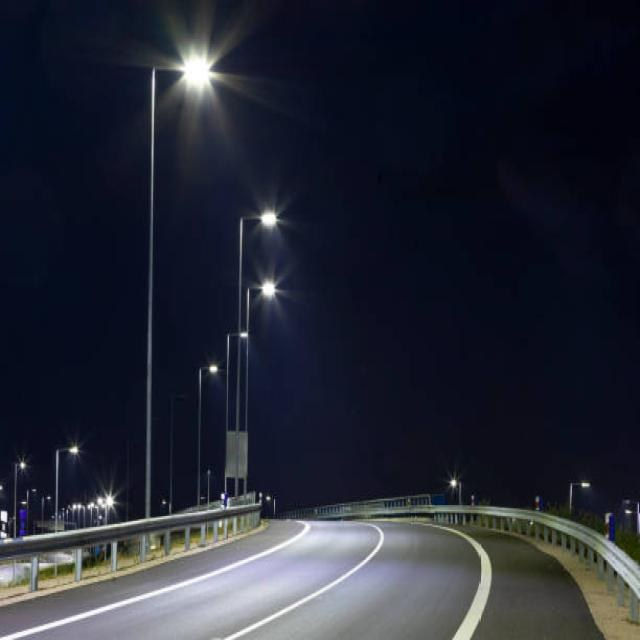acesa: (158, 22, 242, 115), (244, 186, 302, 240), (251, 256, 297, 310), (94, 471, 124, 526), (60, 438, 84, 460), (446, 470, 462, 499), (202, 359, 224, 377)
